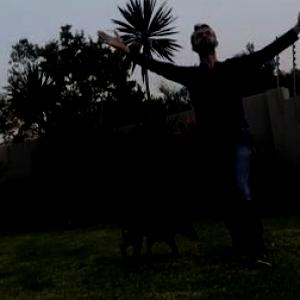takeoff: (120, 26, 299, 248)
